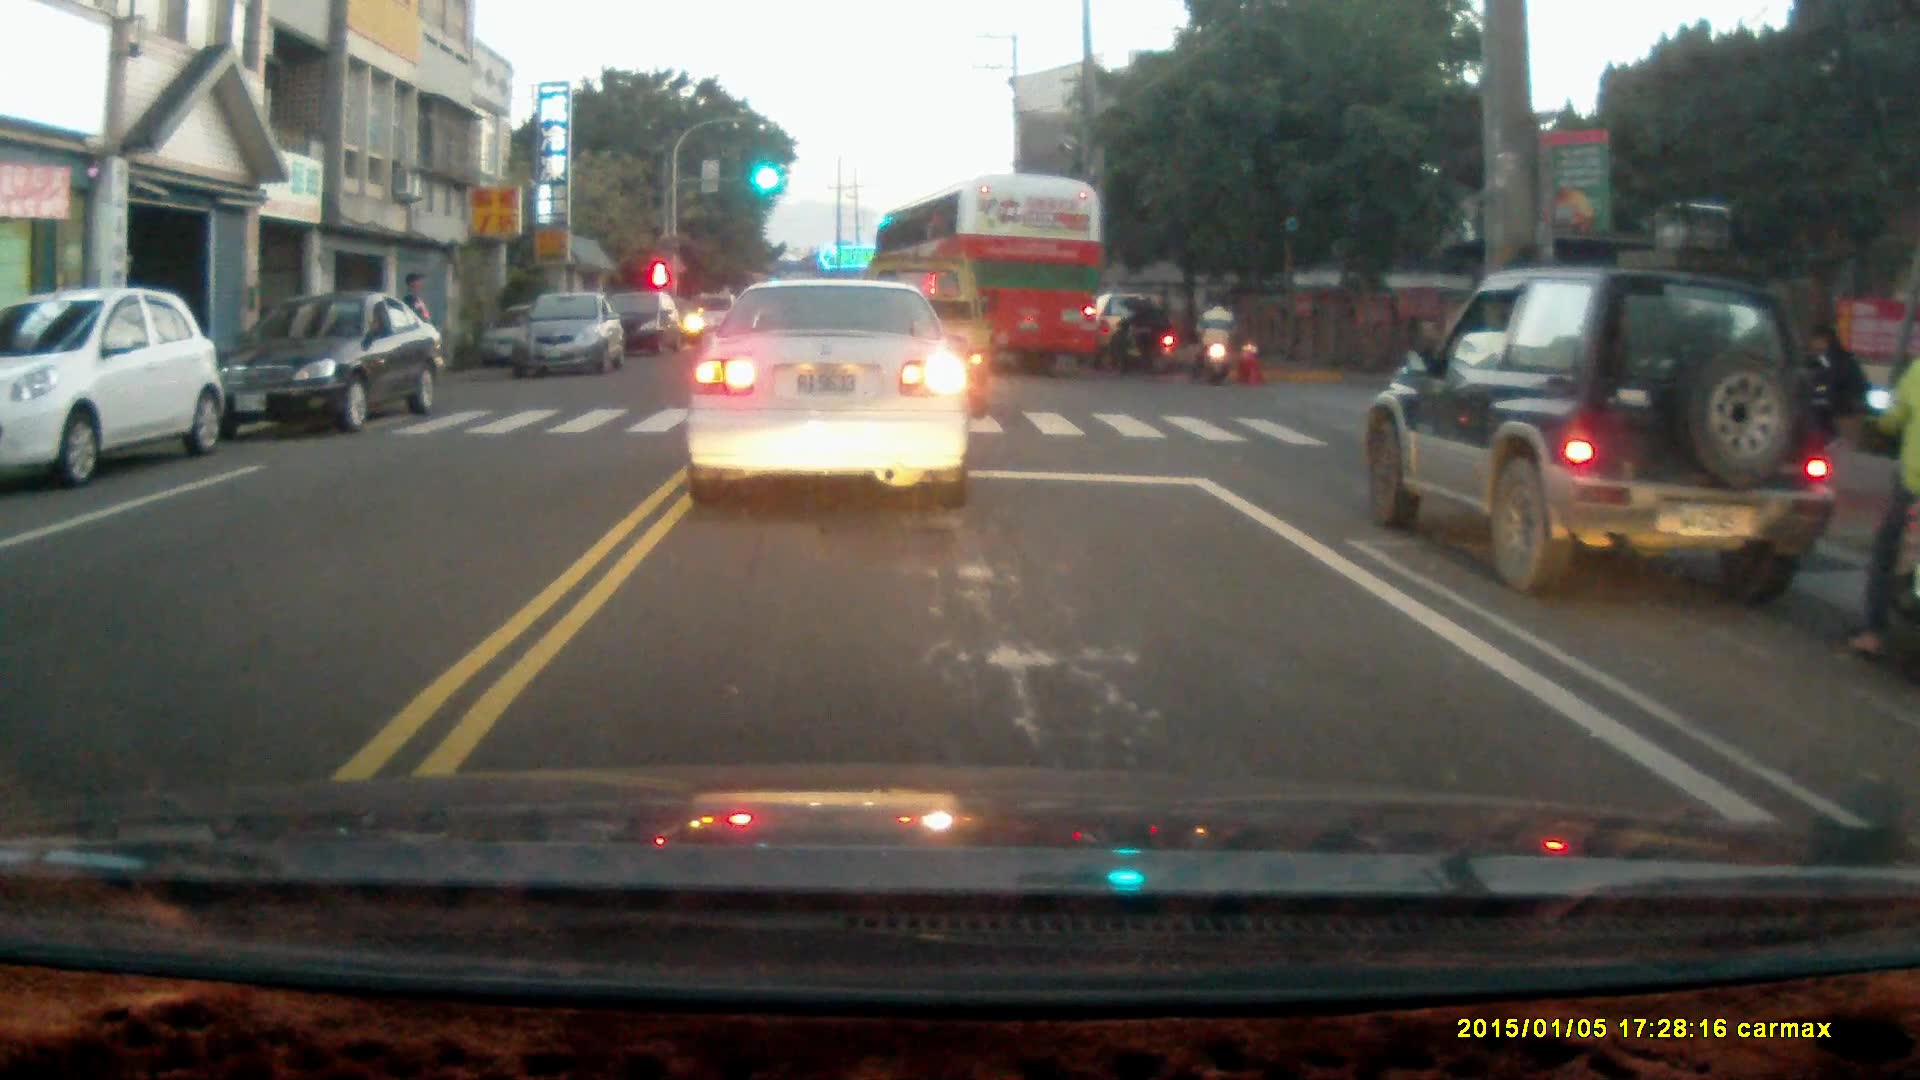pedestrian: (1805, 322, 1864, 441), (398, 269, 433, 389)
rider: (1840, 335, 1920, 677), (1097, 290, 1172, 373), (1188, 289, 1237, 383)
vehicle: (1365, 264, 1843, 597), (685, 275, 977, 512), (867, 173, 1106, 377), (2, 284, 224, 488), (204, 291, 447, 437), (503, 291, 627, 381), (617, 286, 692, 359)
